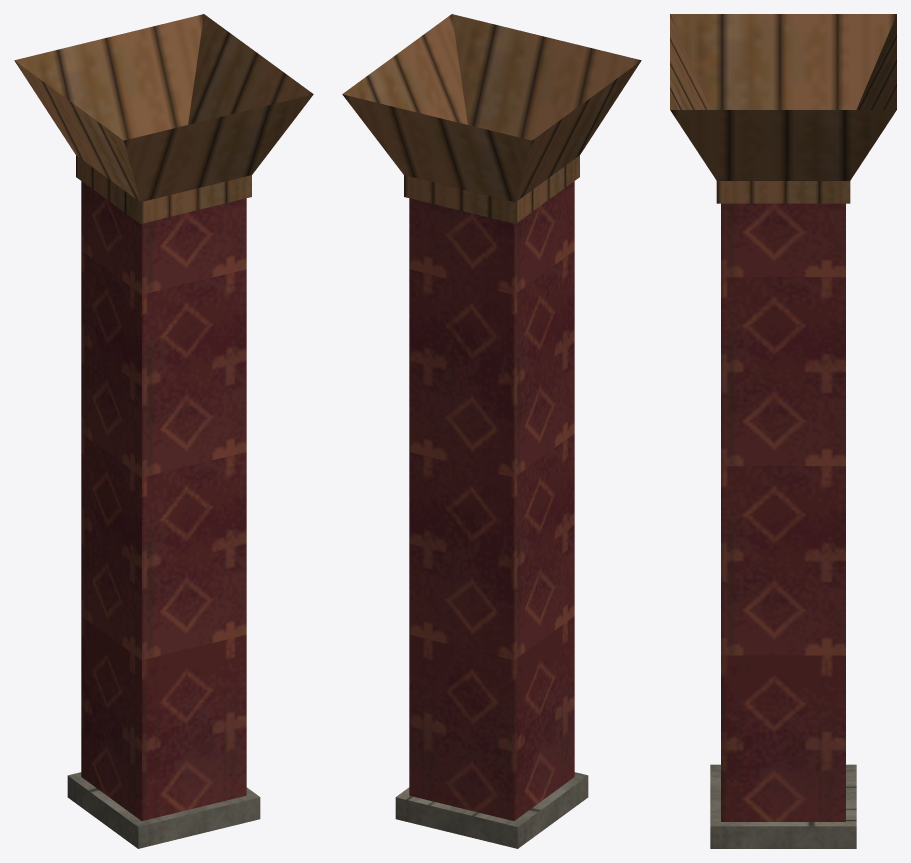
File: column.fbx
3 renders of one model, left to right at view 1: azimuth 30°, elevation 25°; view 2: azimuth 150°, elevation 25°; view 3: azimuth 270°, elevation 25°, orthographic. The views are drawn at different scales.
Visible parts, largest first — view 1: column; view 2: column; view 3: column.
Part boxes in pixels (left/top/right/bottom): column: left=14, top=14, right=313, bottom=848; column: left=342, top=14, right=641, bottom=848; column: left=670, top=14, right=896, bottom=848.
Bounding box in the file's own units: 1.09 × 4 × 1.09.
